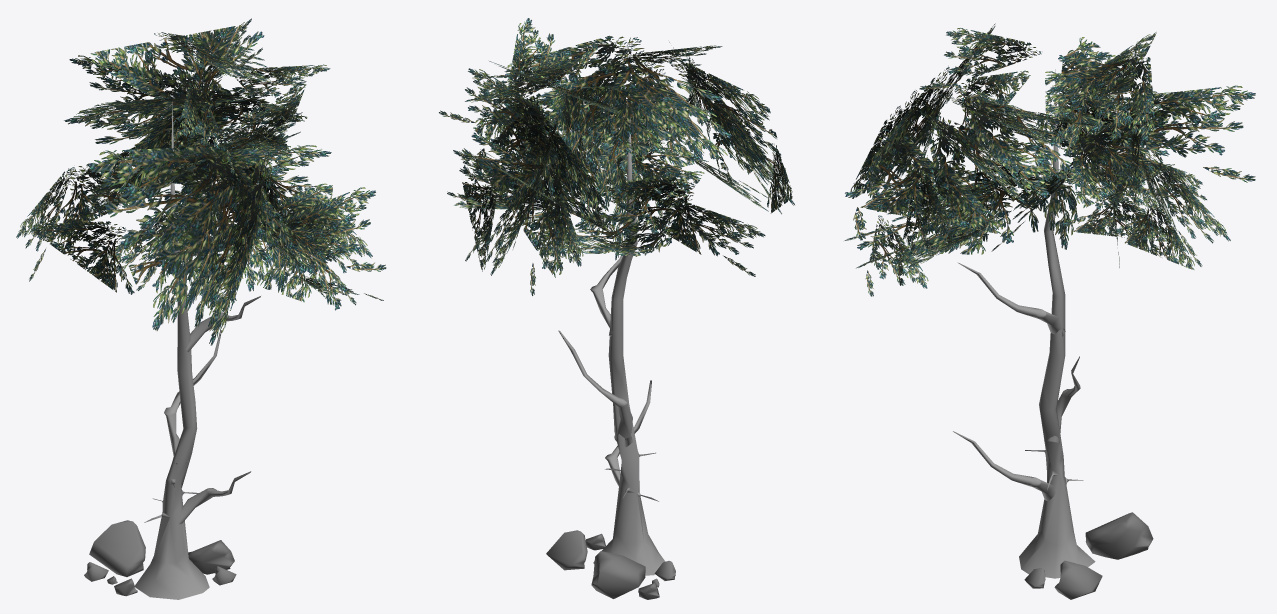
Rendered from stortree_lod02.fbx.
3 views of the same model, side by side, from view 1: azimuth 30°, elevation 25°; view 2: azimuth 150°, elevation 25°; view 3: azimuth 270°, elevation 25° (orthographic). The views are drawn at different scales.
Parts seen in each view (by area): view 1: Default_Layer; view 2: Default_Layer; view 3: Default_Layer.
Boxes of the visible parts, bbox=[...] form: Default_Layer: bbox=[16, 18, 386, 599]; Default_Layer: bbox=[439, 18, 794, 599]; Default_Layer: bbox=[844, 23, 1255, 599].
Bounding box in the file's own units: 836 × 1313 × 966.
